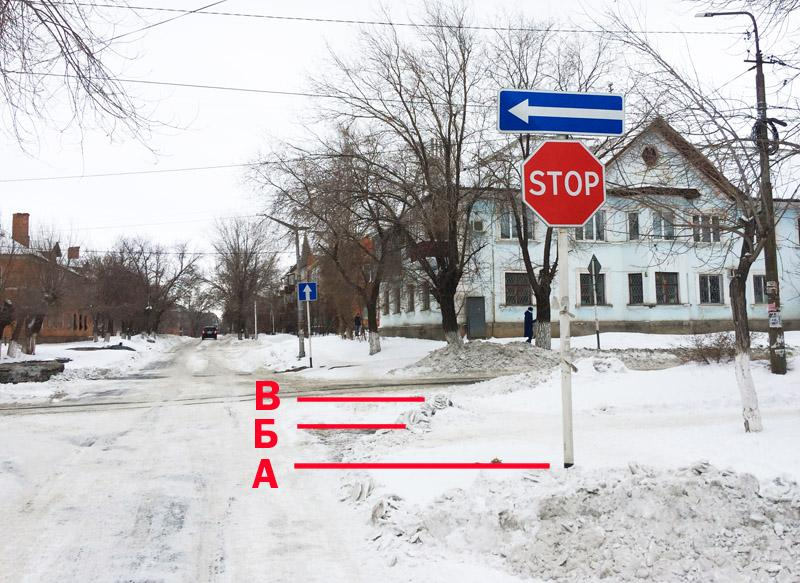Pole: (558, 231, 573, 468), (306, 301, 313, 366)
Sign: (523, 141, 606, 226)
